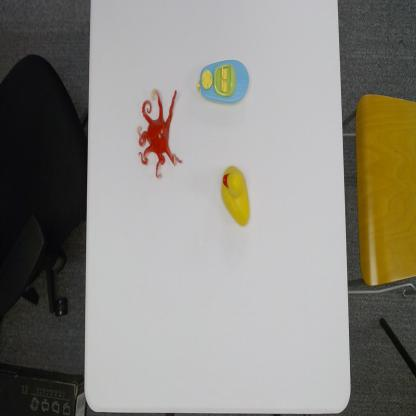Boat: (196, 57, 250, 108)
Duck: (220, 162, 252, 230)
Octopus: (136, 86, 183, 181)
